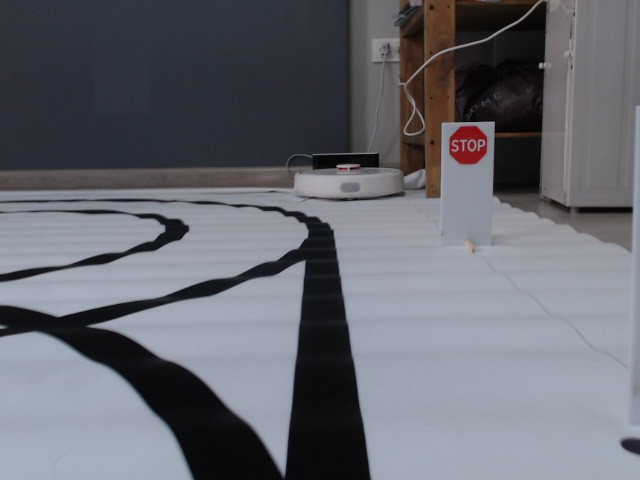Stop: (448, 127, 489, 166)
